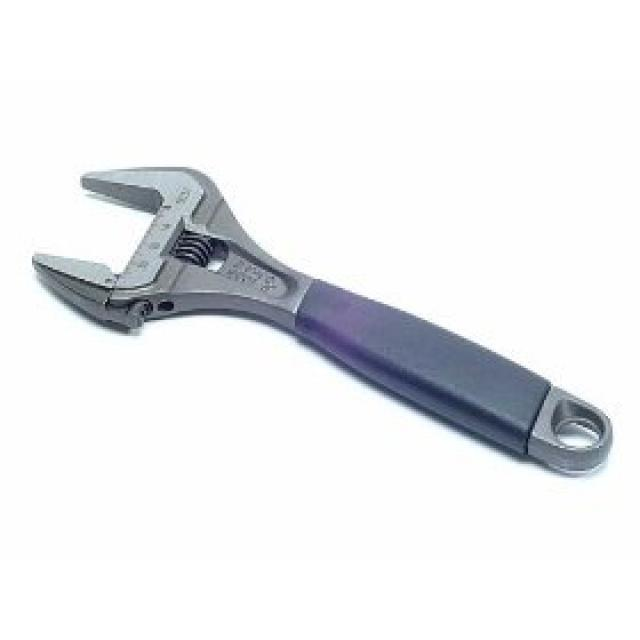wrench: (23, 158, 620, 479)
